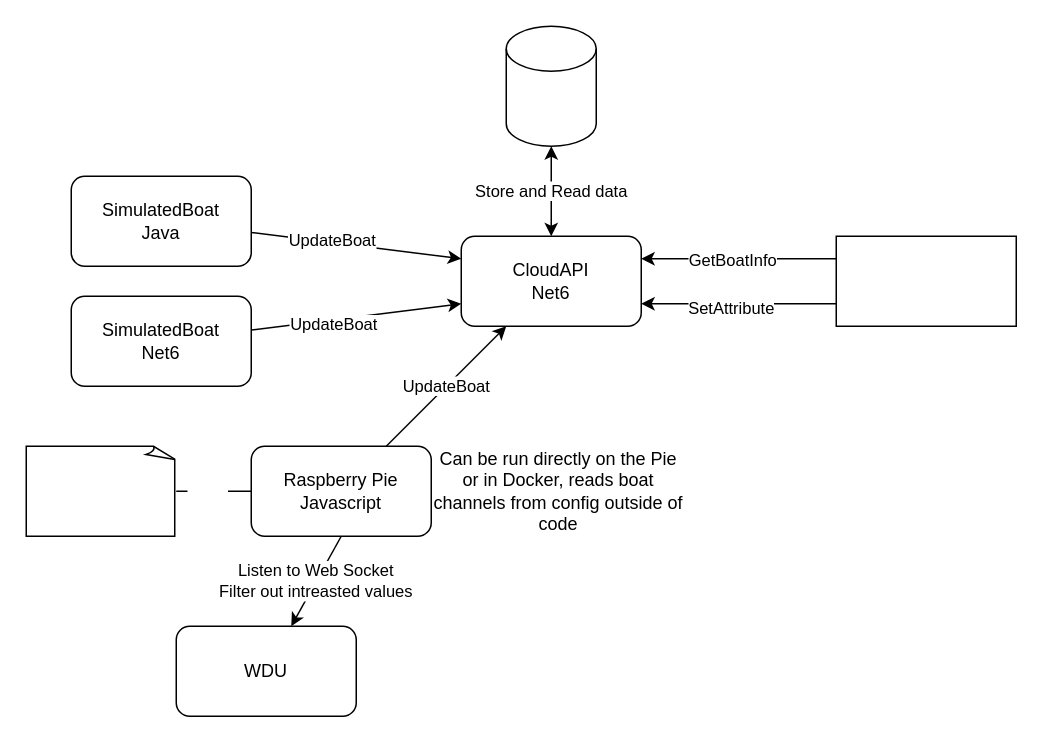
The diagram is 1043 pixels wide and 743 high, and some of its shapes have lost their labels. The centre of each missing label's shape, as x and y in pixels:
"Config values" belongs at pixel 100 490.
"Db" belongs at pixel 550 85.
"Monitor Javascript" belongs at pixel 925 280.
